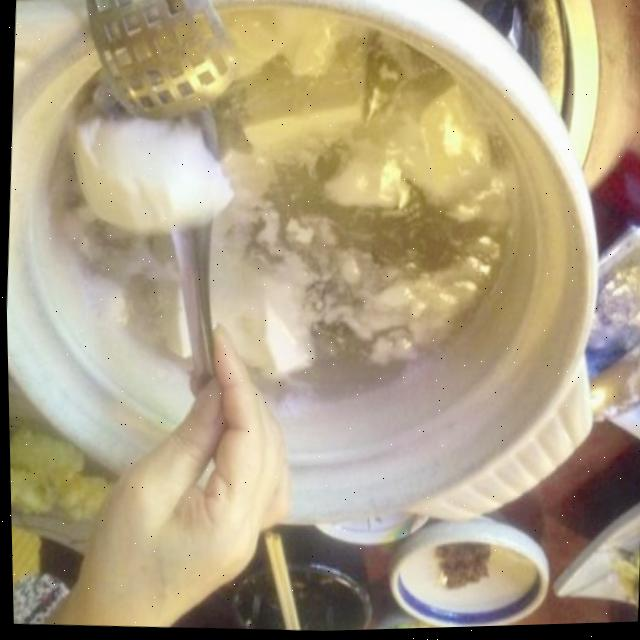豆腐料理: (0, 0, 632, 593)
